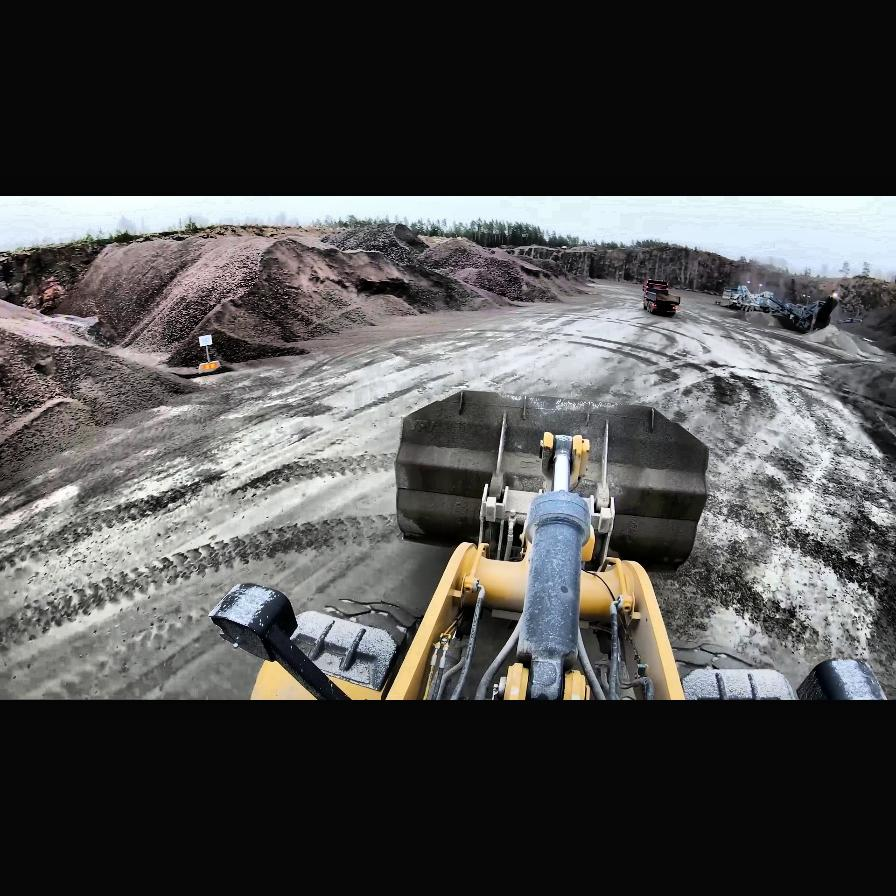anchor: (539, 432, 589, 490)
pile of gravel: (42, 222, 488, 370), (0, 300, 198, 488), (490, 243, 594, 295)
